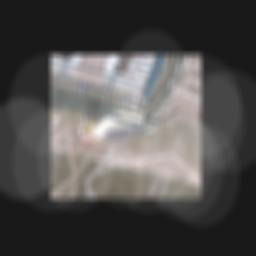Woodpecker: (71, 82, 185, 164)
